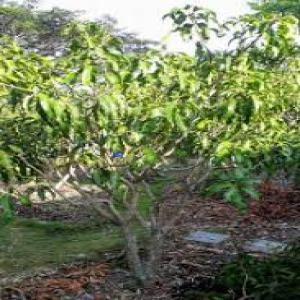Tree: (10, 8, 292, 282)
